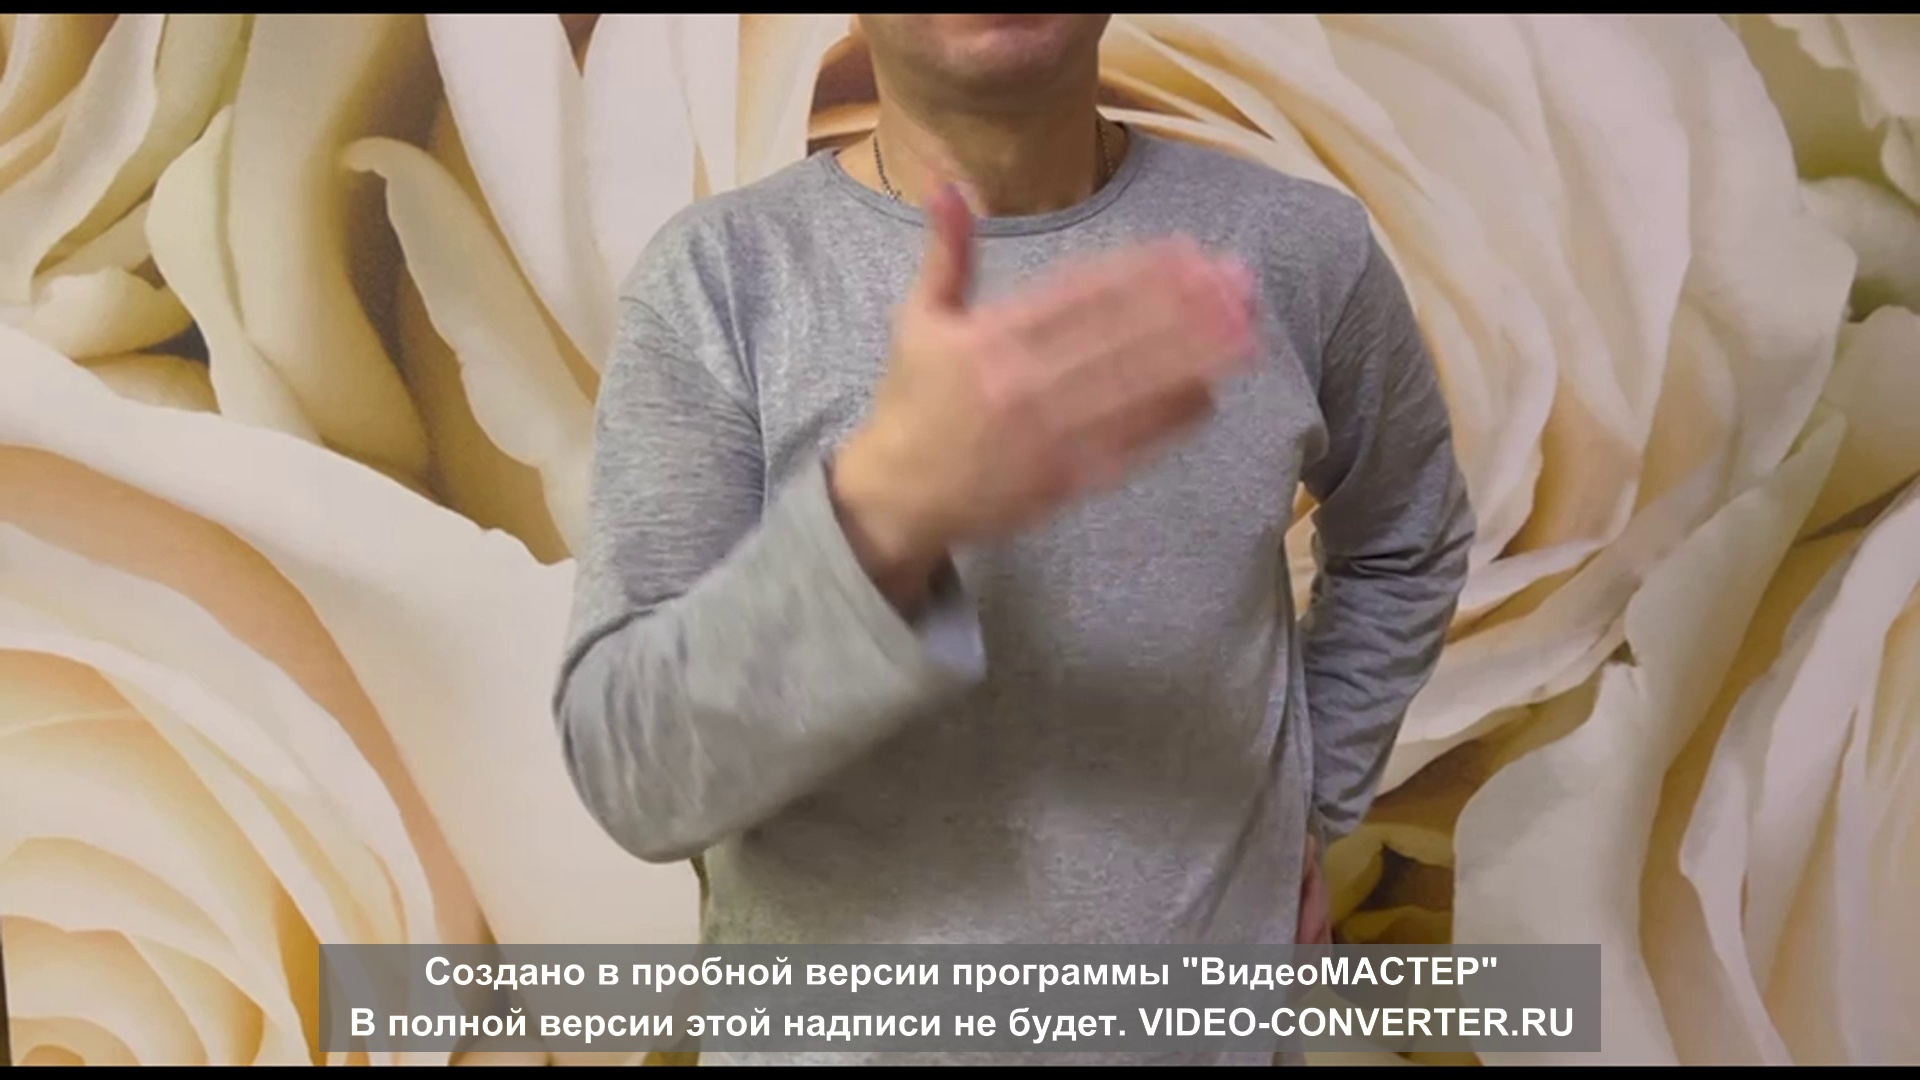Кисть: (887, 175, 1242, 538)
